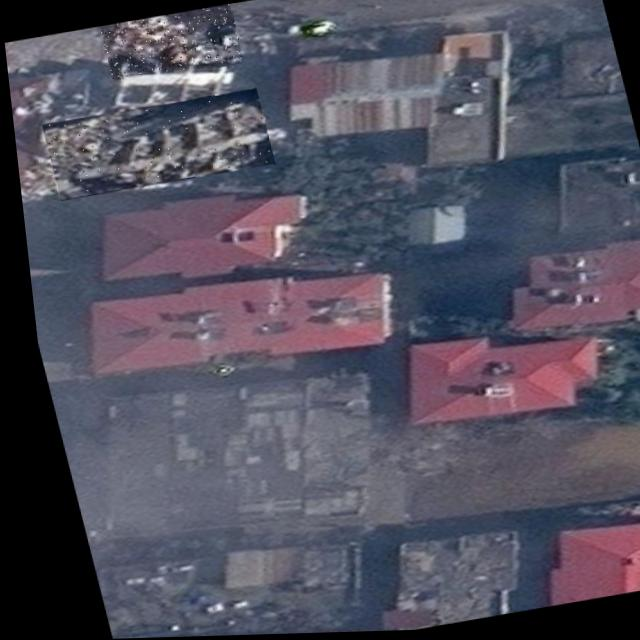Rubble: (36, 88, 275, 200), (97, 4, 244, 82)
